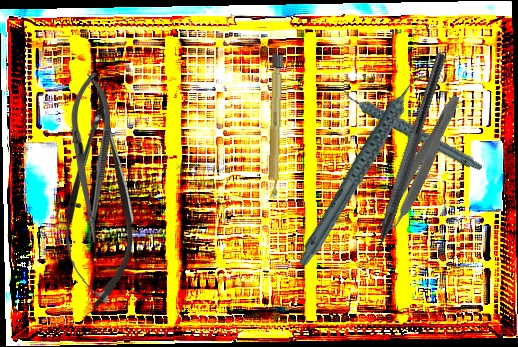Chopper: (354, 46, 447, 278)
Handpiece: (263, 69, 464, 270), (339, 59, 484, 197)
Micro Scissor: (62, 79, 137, 310)
Needle Holder: (71, 71, 111, 244)
Scalpel Handle: (266, 54, 284, 199)
Tissue Forceps: (371, 89, 466, 241)
